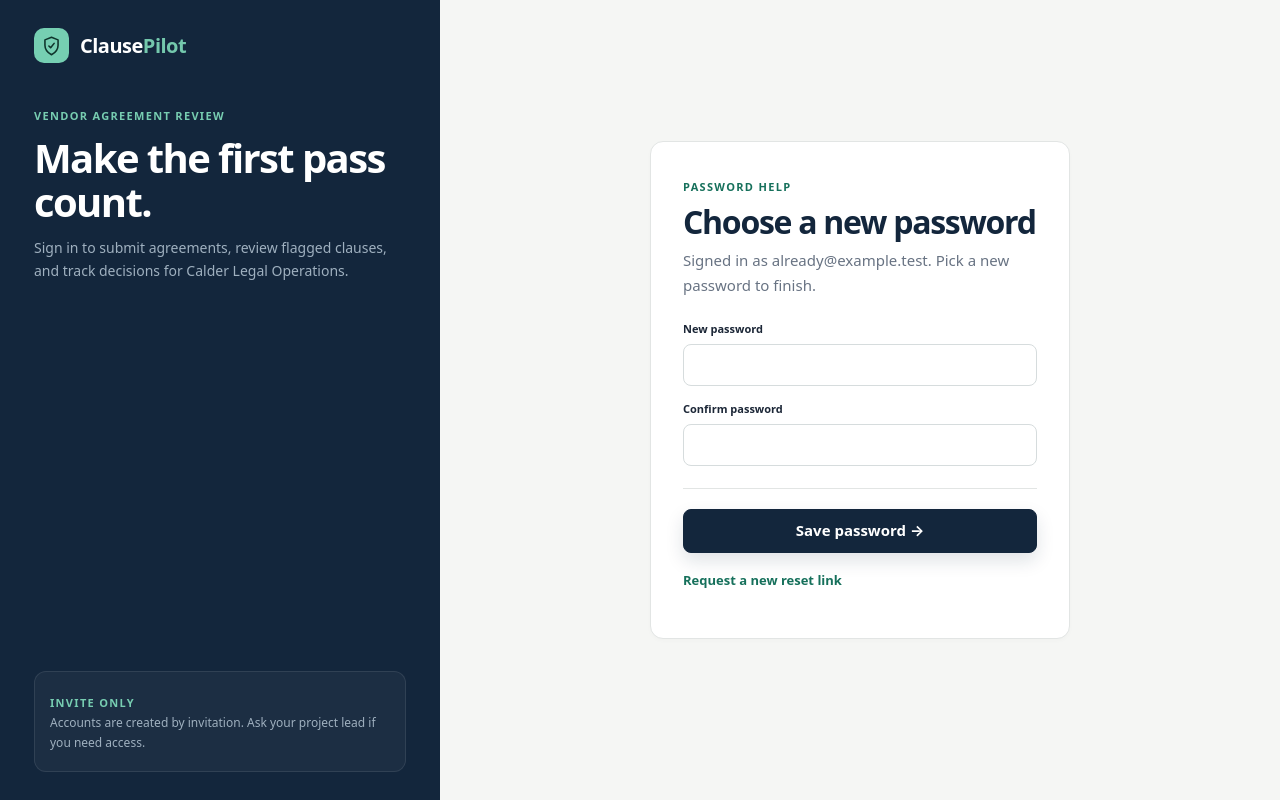
Scenario: leaving the password card › discards the stale session and offers a new link after recovery
Check: the heading "Choose a new password" is shown, box [683, 205, 1037, 239]
Click the button "Request a new reset link".
click(762, 580)  # box [683, 570, 842, 590]
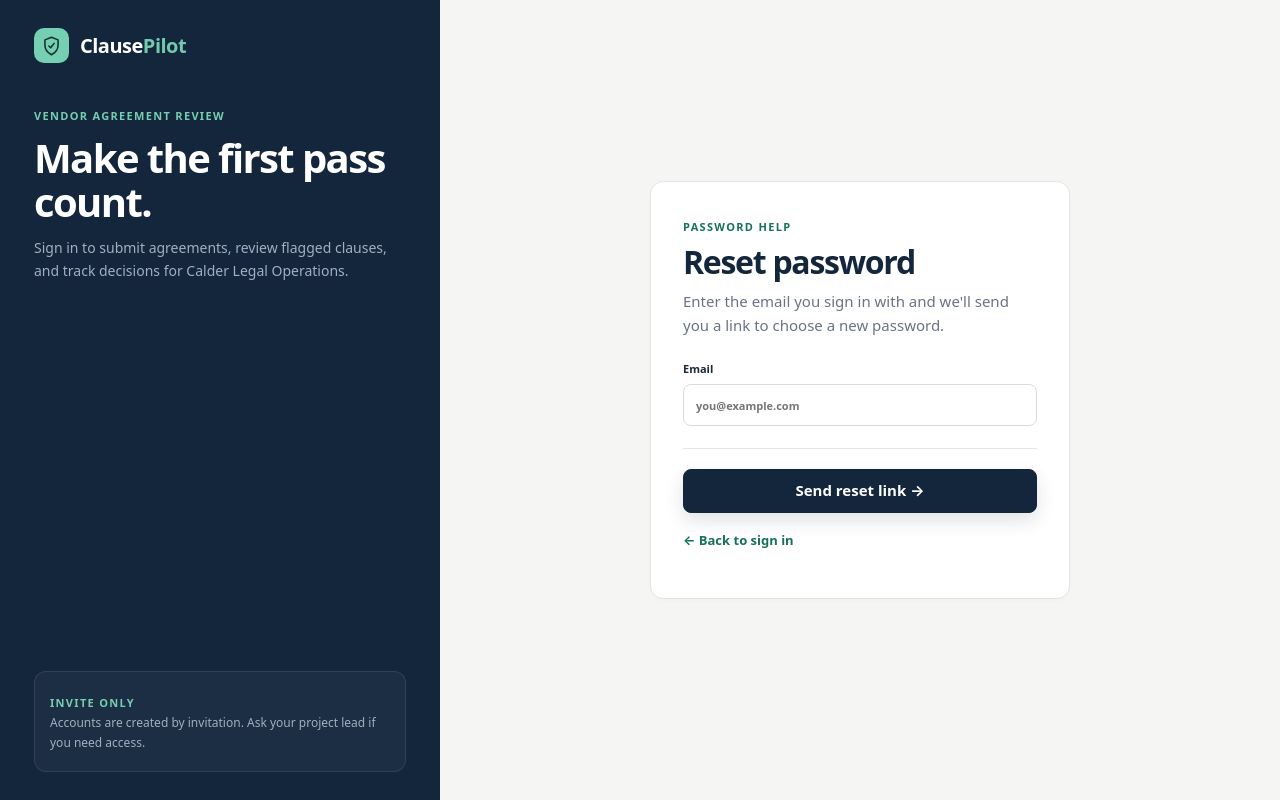
Check: the heading "Reset password" is shown, box [683, 240, 915, 283]
Check: the field labelled "Email" is shown, box [683, 384, 1037, 426]
